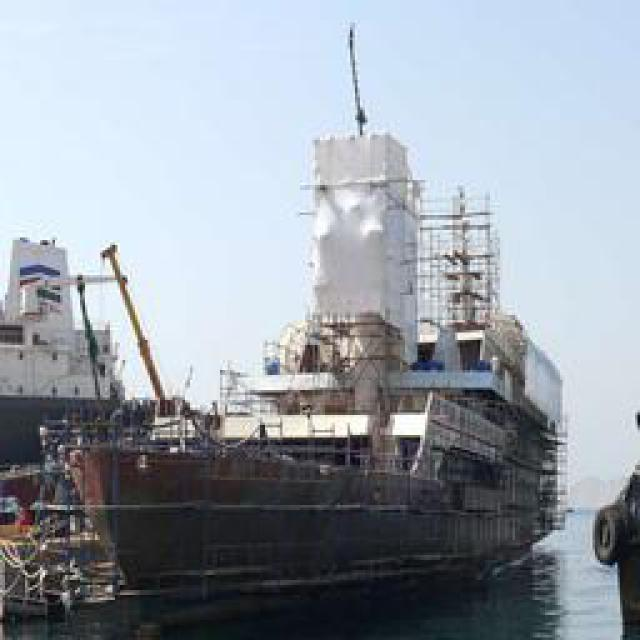Ship: (30, 50, 570, 593)
